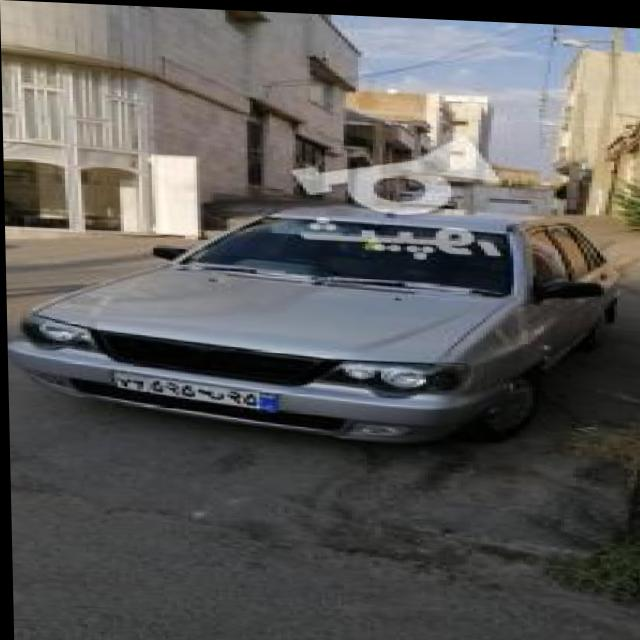licence: (113, 370, 284, 407)
